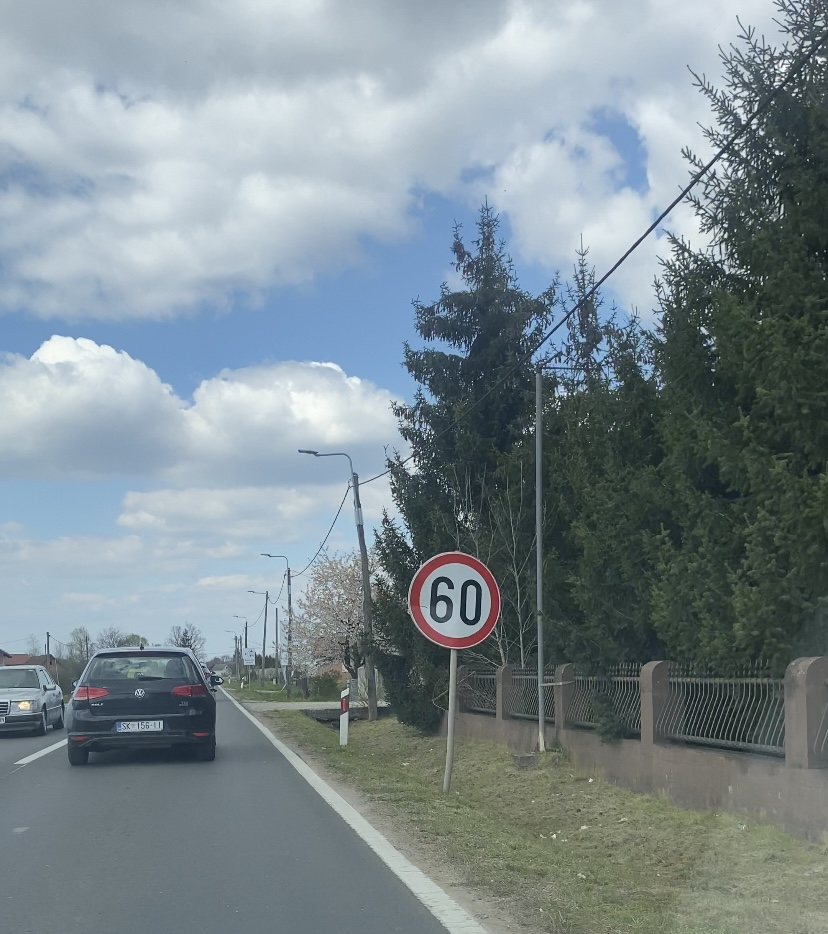Ograničenje brzine 60: (408, 551, 501, 649)
